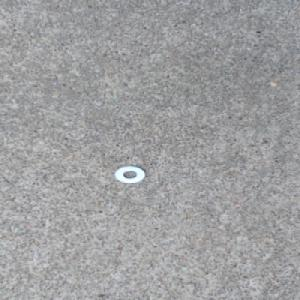Washer: (112, 164, 147, 184)
